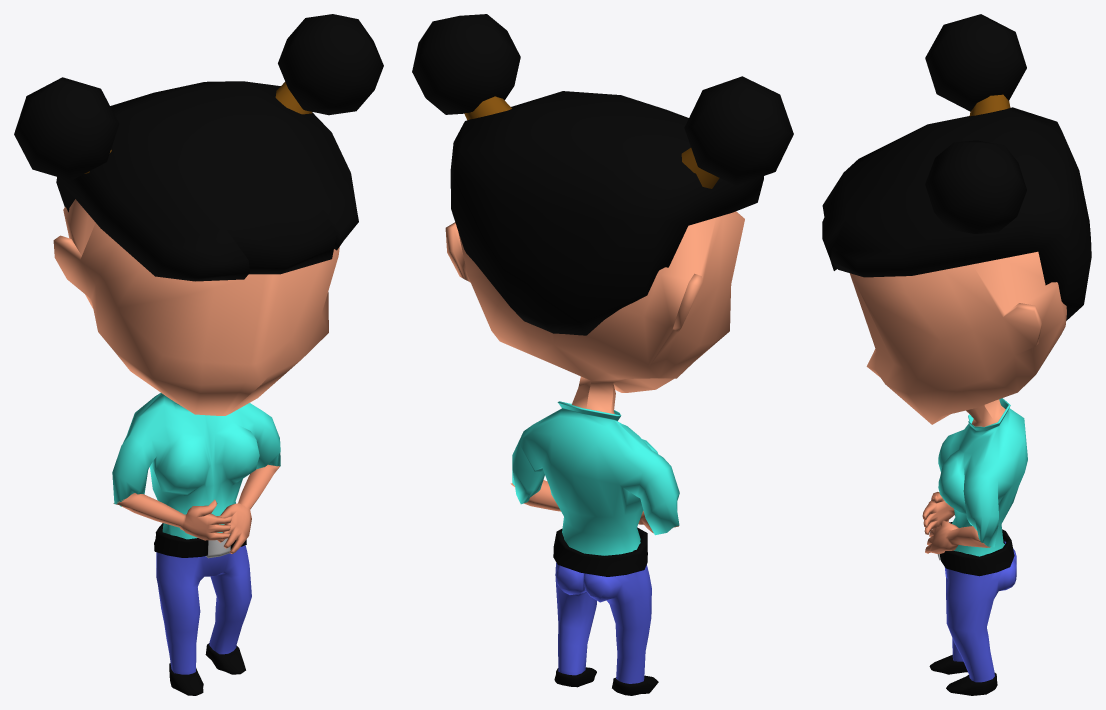
File: Female NPC - turqoise shirt,blue pants.FBX
3 renders of one model, left to right at view 1: azimuth 30°, elevation 25°; view 2: azimuth 150°, elevation 25°; view 3: azimuth 270°, elevation 25°, orthographic. The views are drawn at different scales.
Visible parts, largest first — view 1: Group004; view 2: Group004; view 3: Group004.
Boxes of the visible parts, x1,y1,x2,y2 form: Group004: (14,14,383,695); Group004: (412,14,793,695); Group004: (822,14,1091,695).
Bounding box in the file's own units: 123 × 84.08 × 207.
